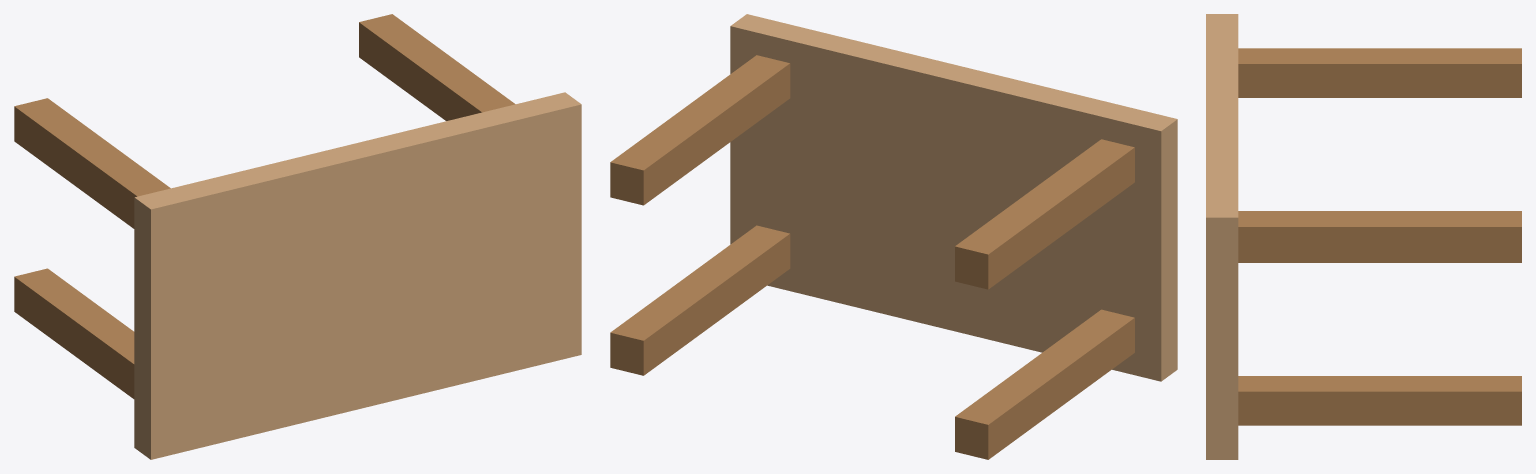
Rendered from dining-tables.glb.
3 renders of one model, left to right at view 1: azimuth 30°, elevation 25°; view 2: azimuth 150°, elevation 25°; view 3: azimuth 270°, elevation 25°, orthographic. The views are drawn at different scales.
Visible parts, largest first — view 1: Top, world, Leg; view 2: Top, world, Leg; view 3: world, Top, Leg.
Boxes of the visible parts, bbox=[...] form: Top: bbox=[134, 92, 581, 459]; world: bbox=[14, 98, 170, 398]; Leg: bbox=[359, 14, 515, 120]; Top: bbox=[730, 14, 1177, 381]; world: bbox=[610, 139, 1134, 459]; Leg: bbox=[610, 55, 790, 205]; world: bbox=[1238, 48, 1521, 425]; Top: bbox=[1206, 14, 1238, 459]; Leg: bbox=[1238, 211, 1521, 260].
Size of the model in its own units: 1.8 by 1 by 1.18.
